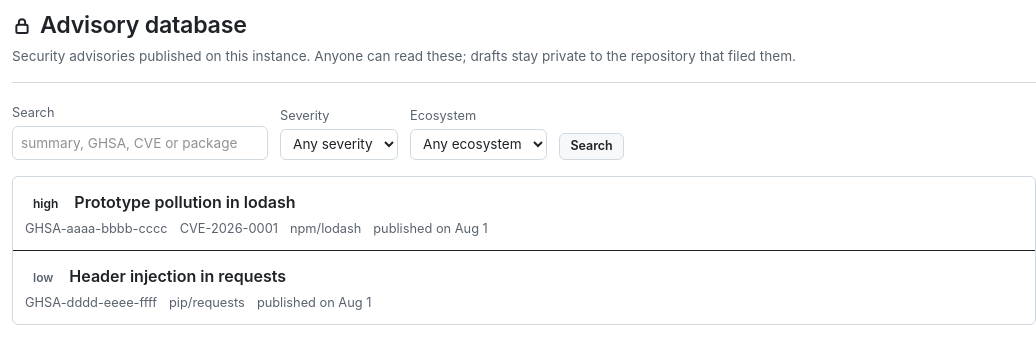
Scenario: GlobalAdvisoriesPage › filters locally by summary, identifier and package name
This screenshot has width=1036, height=342.
expect the link "Prototype pollution in lodash" is shown: met, box [74,189,296,215]
Type "requests" into the search field labelled "Search" at point(140, 143), box [12,126,268,160]
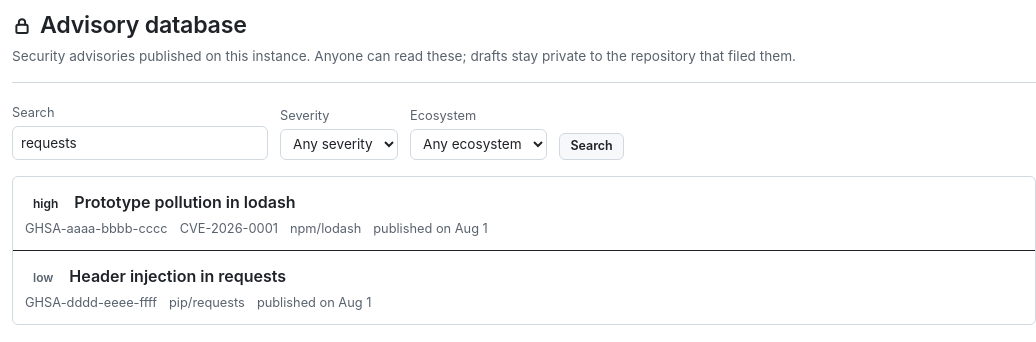
Click the button "Search" at point(592, 146), box [559,133,624,160]
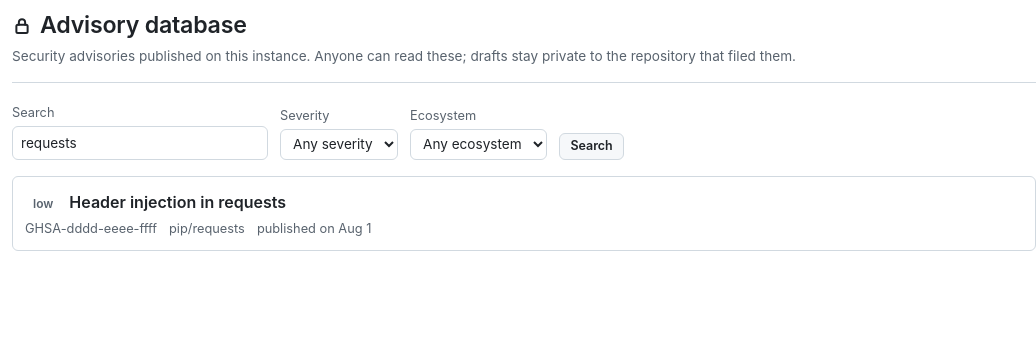
expect the link "Header injection in requests" is shown: met, box [69,189,286,215]
expect the link "Prototype pollution in lodash" is gone: met
Replace the text in the search field labelled "Search" with "CVE-2026-0001" at point(140, 143), box [12,126,268,160]
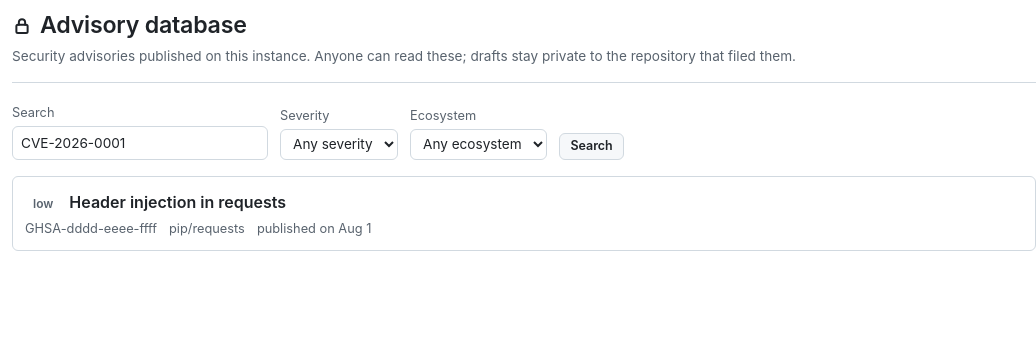
Click the button "Search" at point(592, 146), box [559,133,624,160]
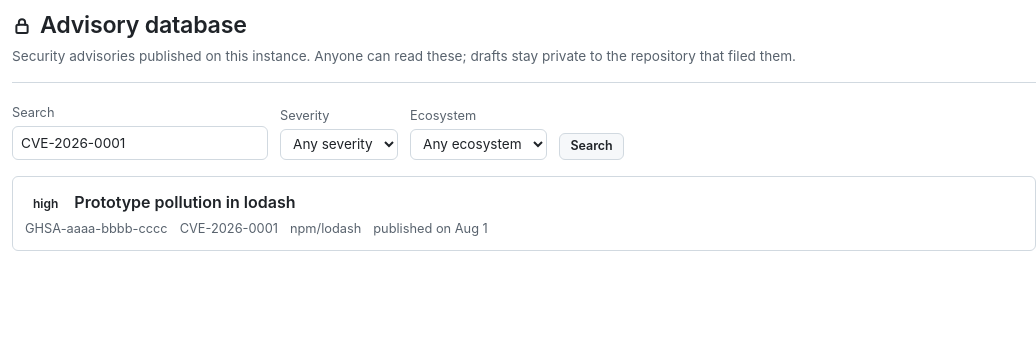
expect the link "Prototype pollution in lodash" is shown: met, box [74,189,296,215]
expect the link "Header injection in requests" is gone: met
